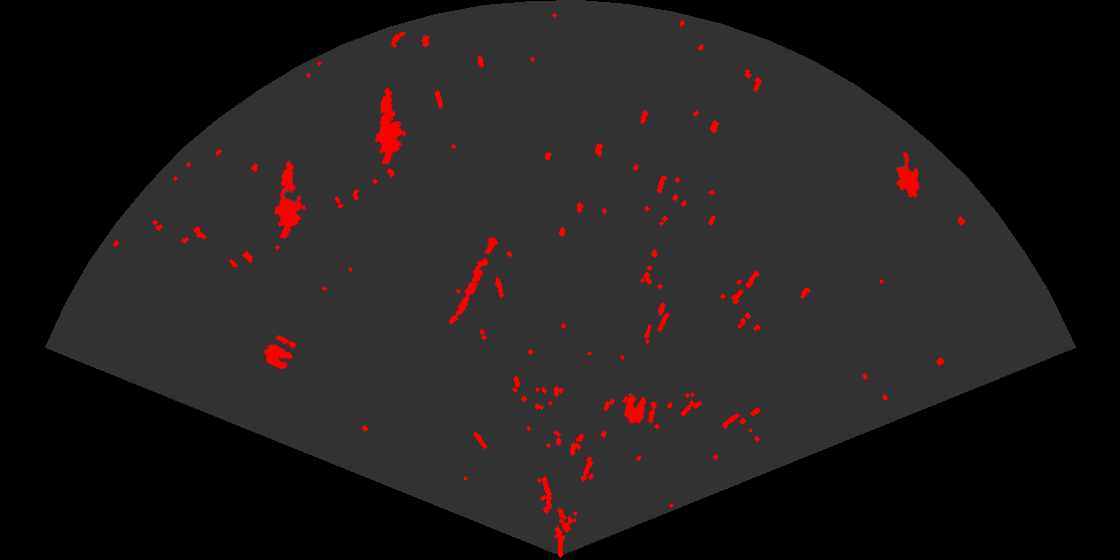AUV: (895, 150, 921, 199)
ball: (262, 333, 298, 371), (622, 394, 658, 425)
chain: (447, 235, 500, 326)
frogman: (273, 159, 308, 238), (373, 86, 408, 164)
